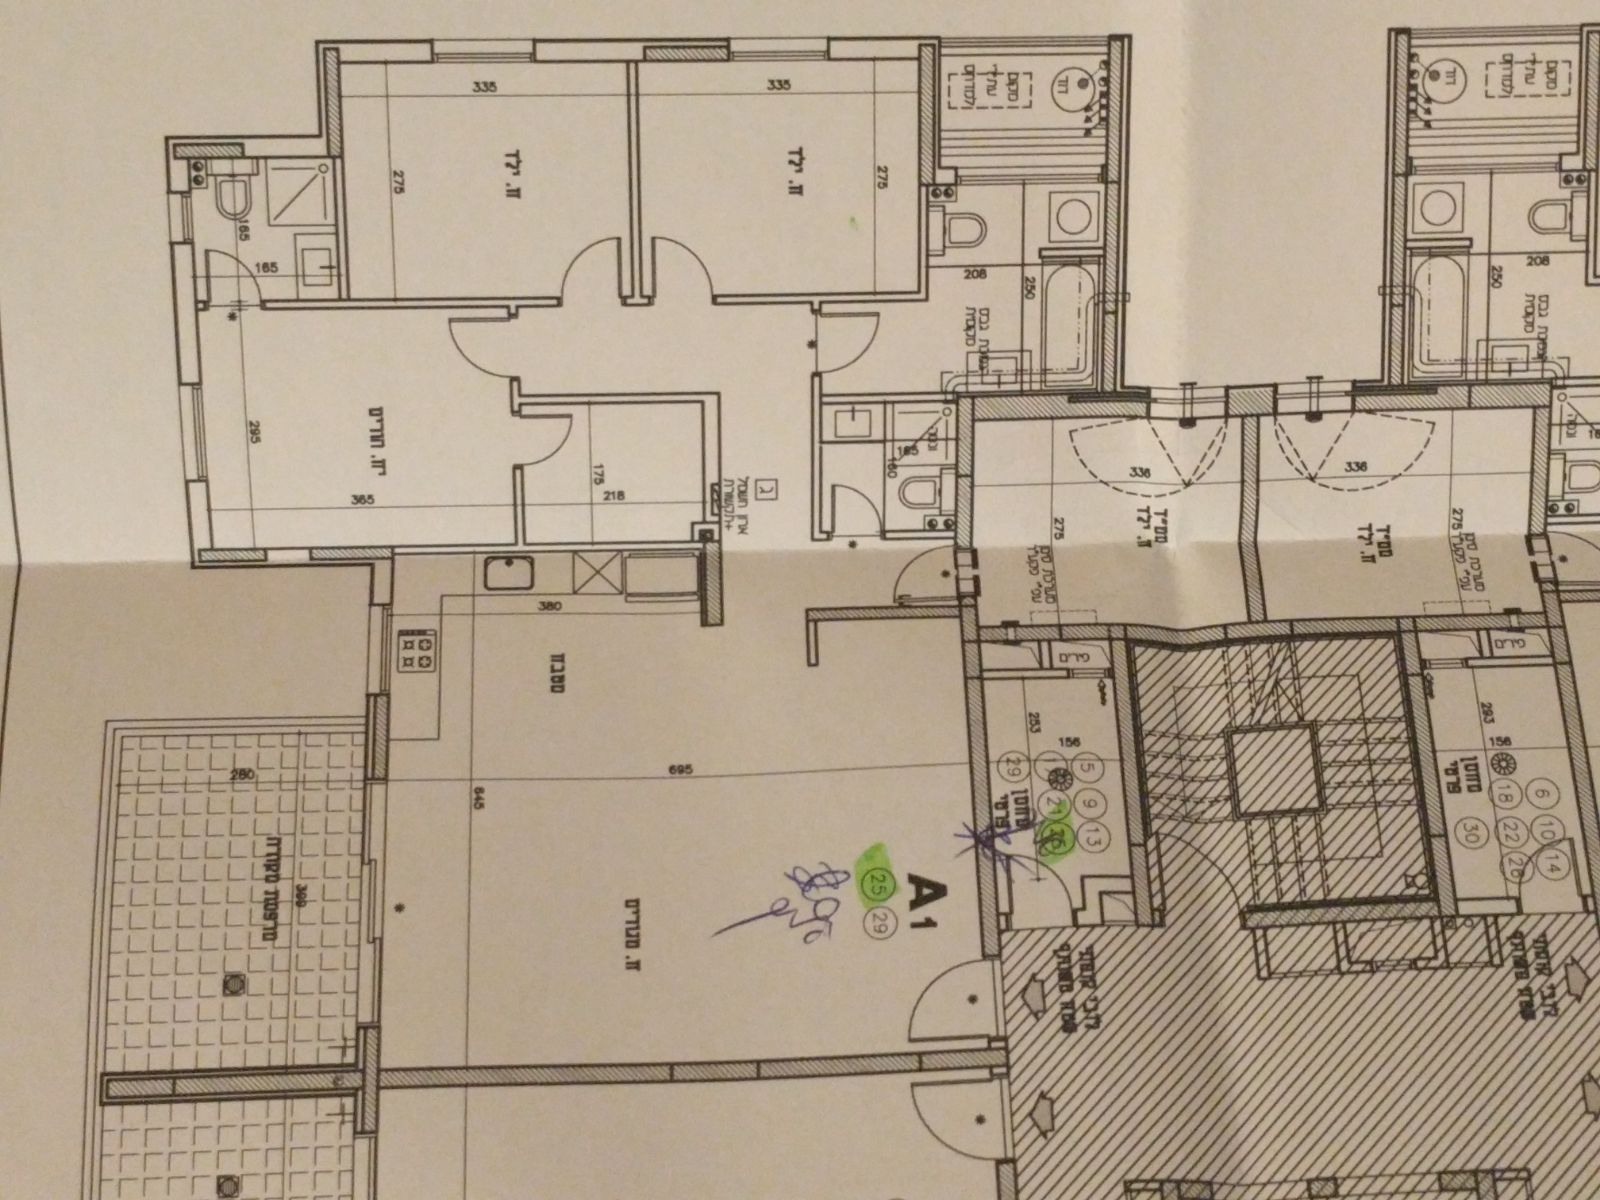door: (889, 955, 1023, 1045), (551, 221, 627, 334), (645, 217, 717, 334), (799, 308, 889, 374), (438, 313, 534, 376), (828, 476, 884, 550), (504, 411, 576, 466)
window: (169, 376, 212, 492)
